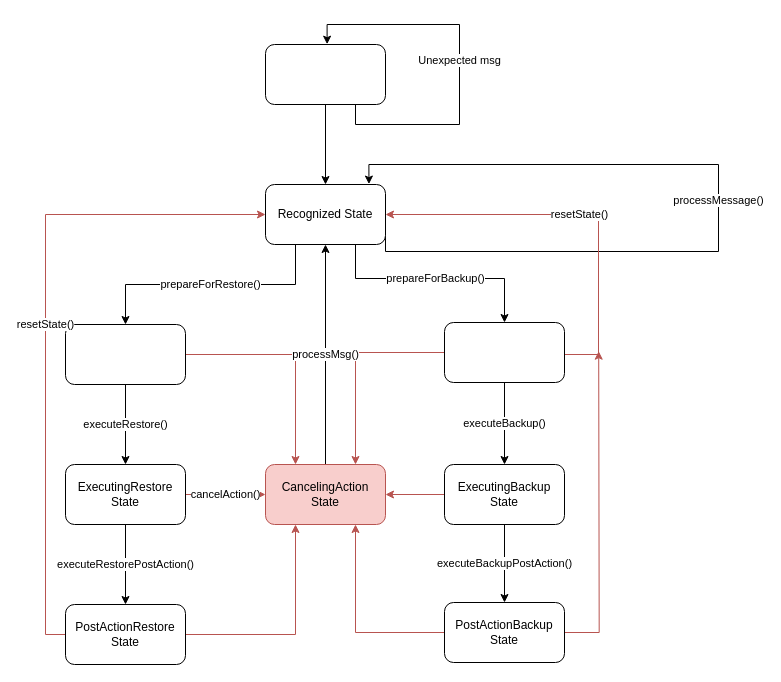
The diagram is 781 pixels wide and 682 high, and some of its shapes have lost their labels. The centre of each missing label's shape, as x and y in pixels:
"PreparingBackup State" belongs at (x=504, y=352).
"PreparingRestore State" belongs at (x=125, y=354).
"Unrecognized State" belongs at (x=325, y=74).
